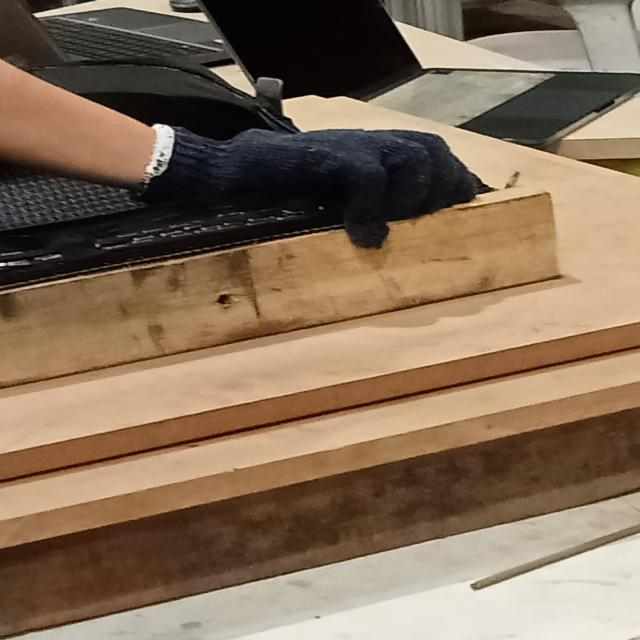Gloves-Detection: (147, 112, 472, 245)
